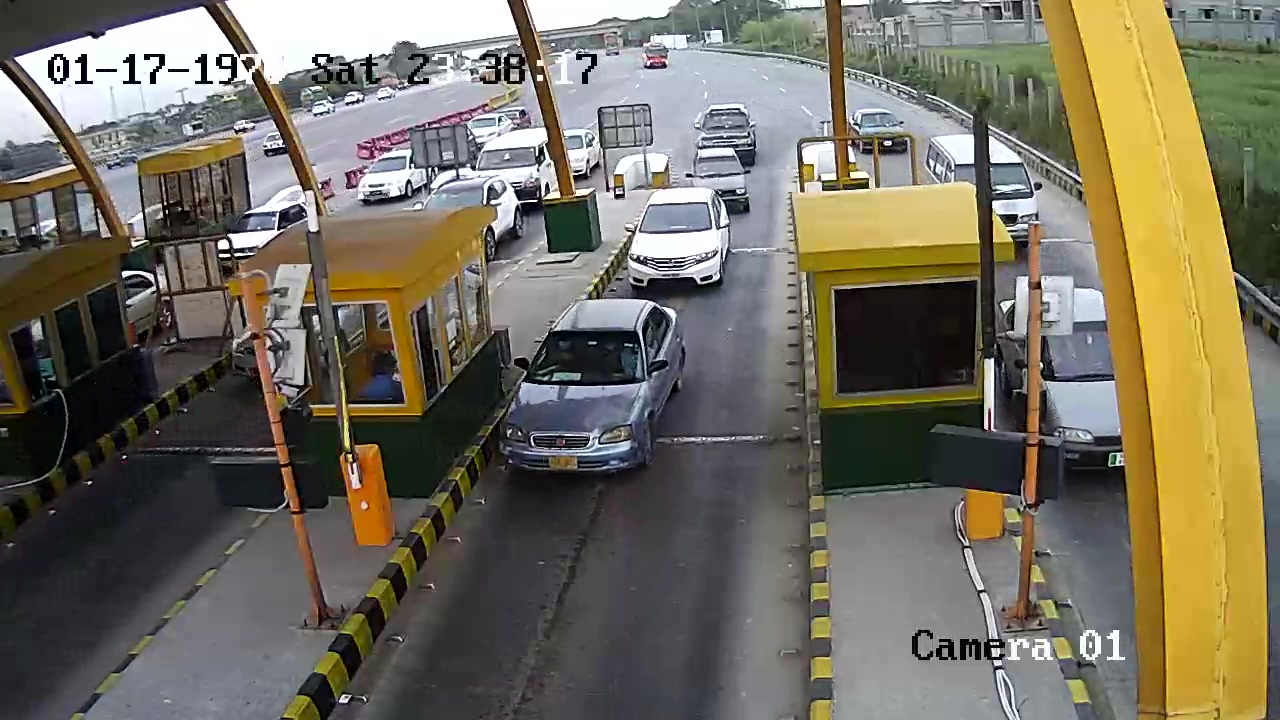F1: (488, 295, 710, 491)
